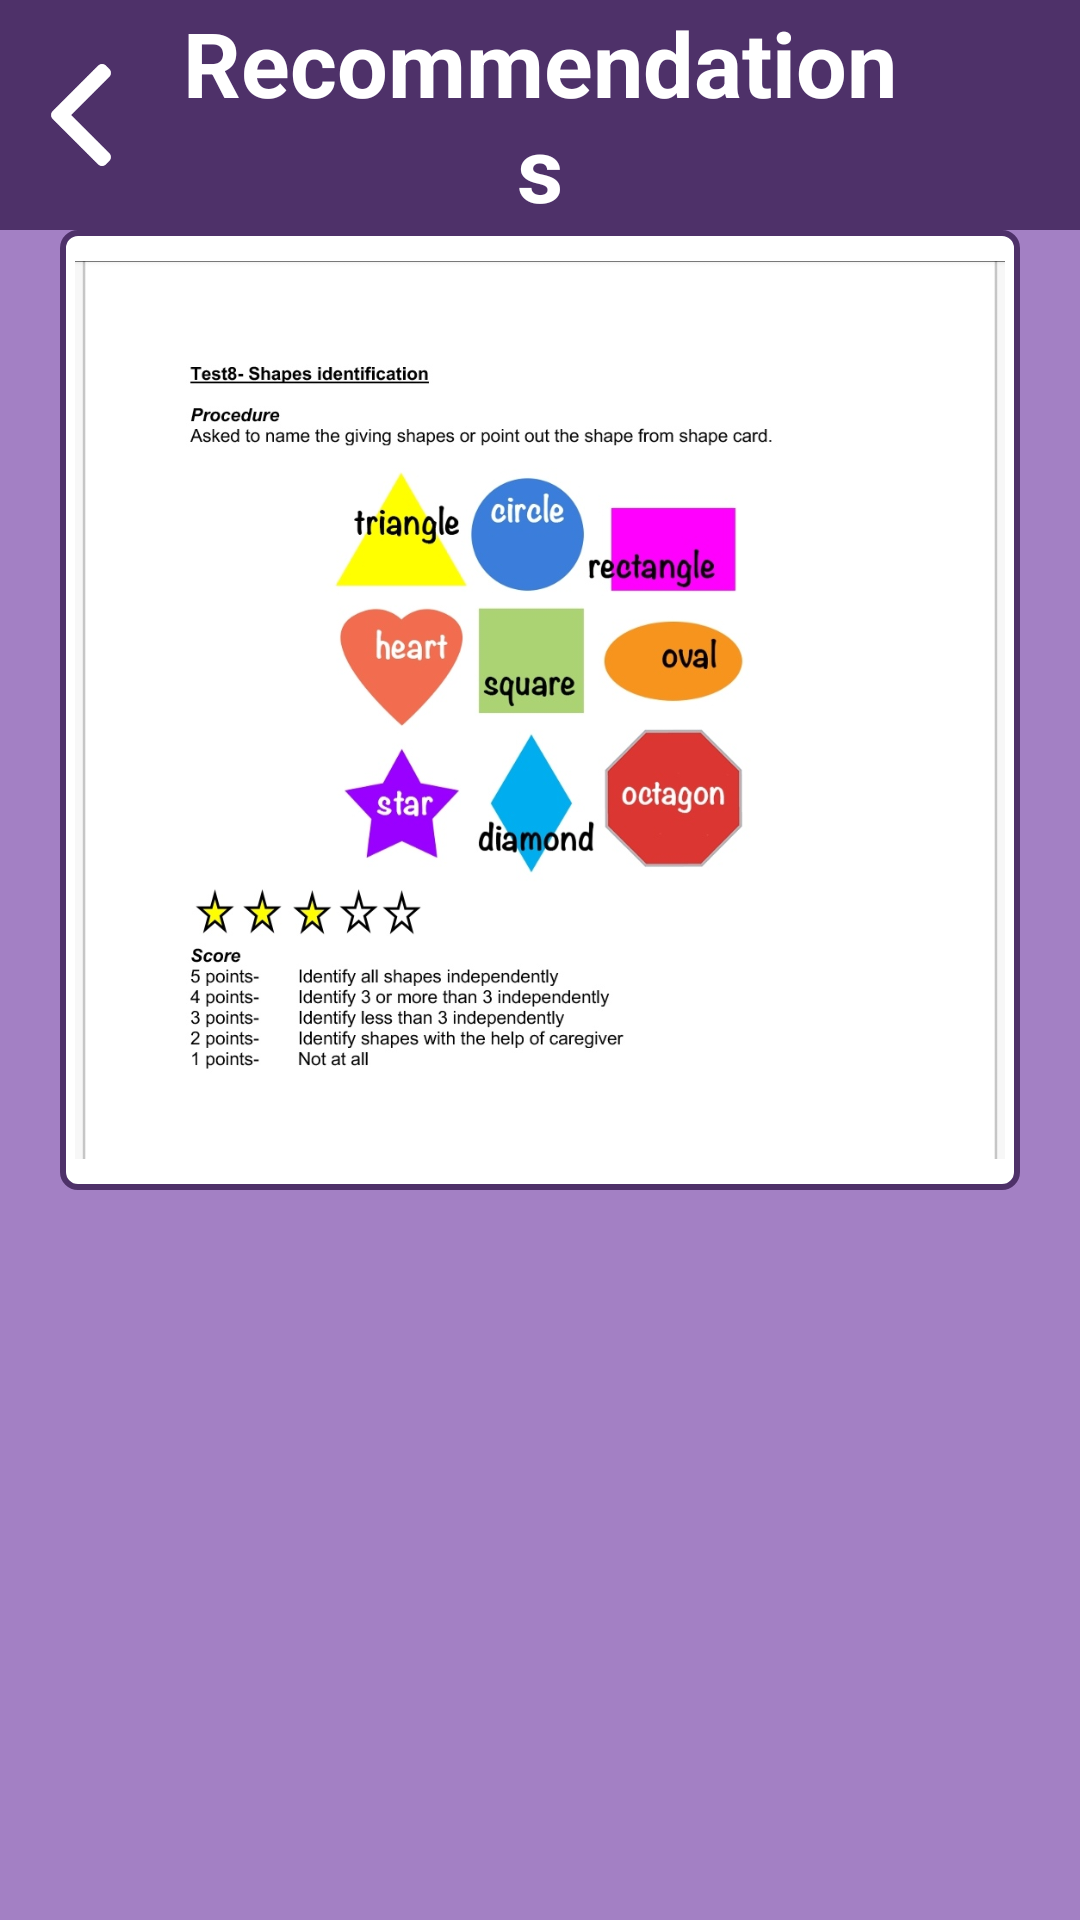

Icon click points for this 1080w x 1920h phone screenshot, format [x,y]:
activity back arrow: [81,115]
